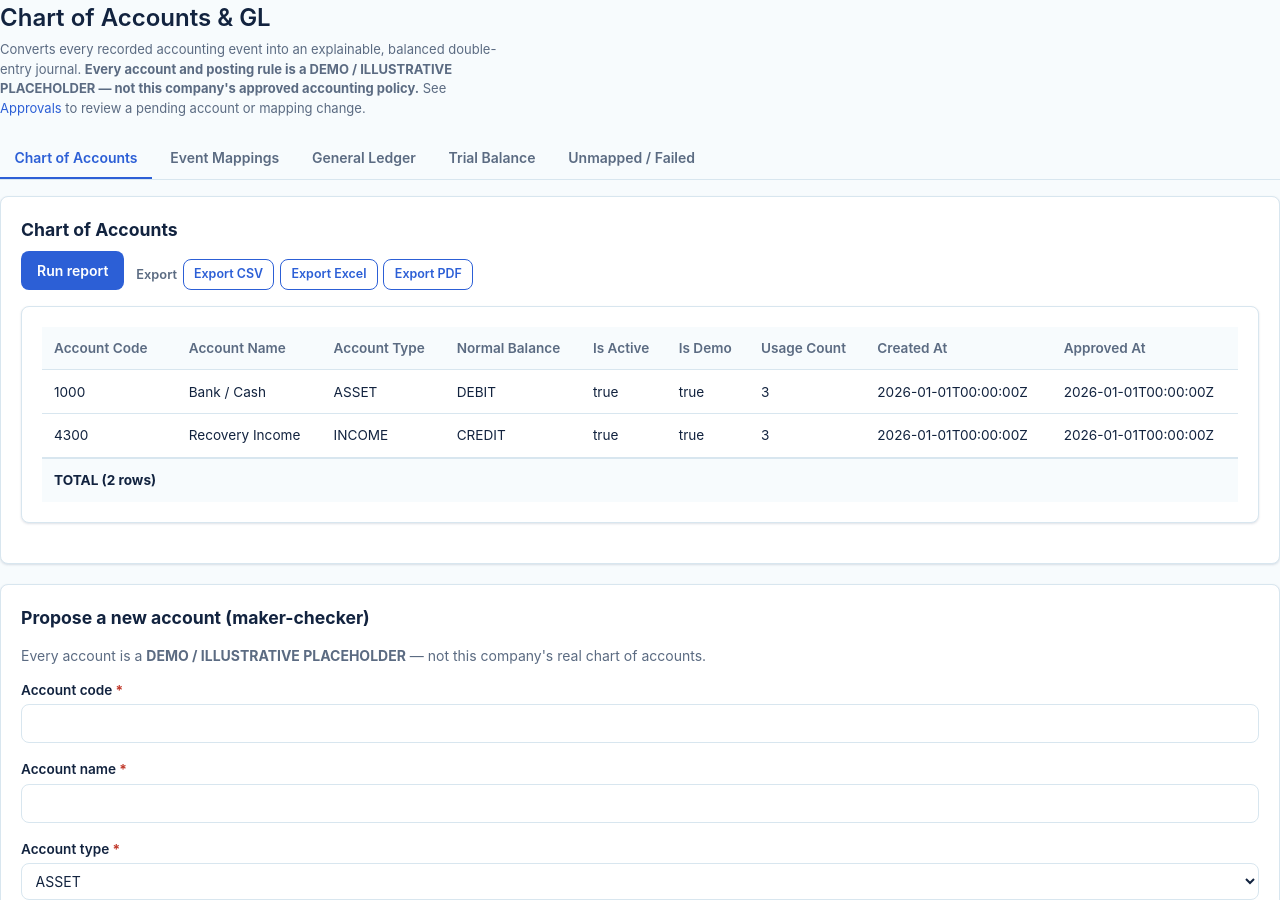
Chart of Accounts & GL — Trial Balance tab › shows the debit/credit summary line
The image size is (1280, 900).
Click the tab "Trial Balance" at (492, 158), box [434, 138, 550, 179]
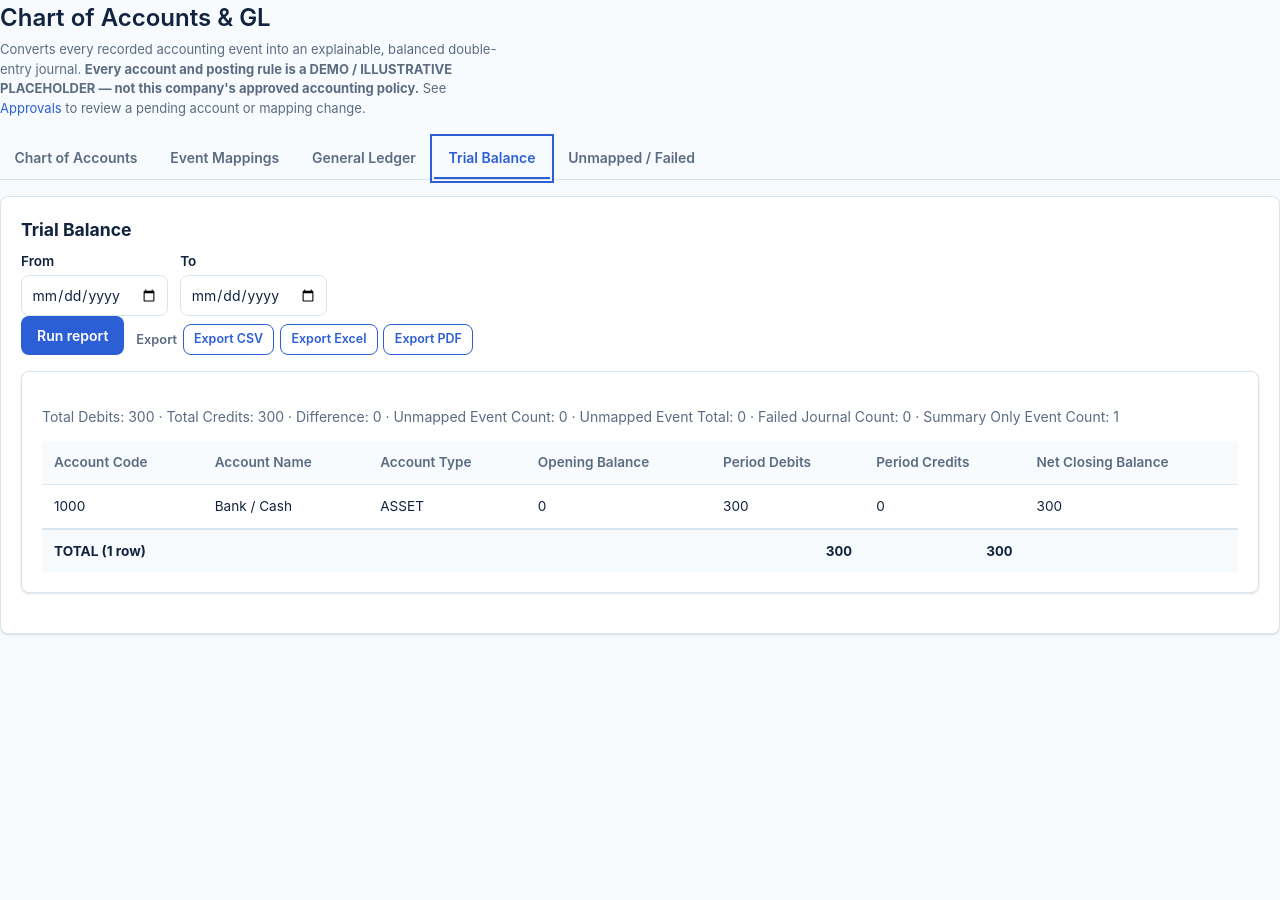
Now the text with test id "report-summary" shows "Total Debits: 300", box [42, 408, 1119, 425]
Now the text with test id "report-summary" shows "Total Credits: 300", box [42, 408, 1119, 425]
Now the text with test id "report-summary" shows "Difference: 0", box [42, 408, 1119, 425]
